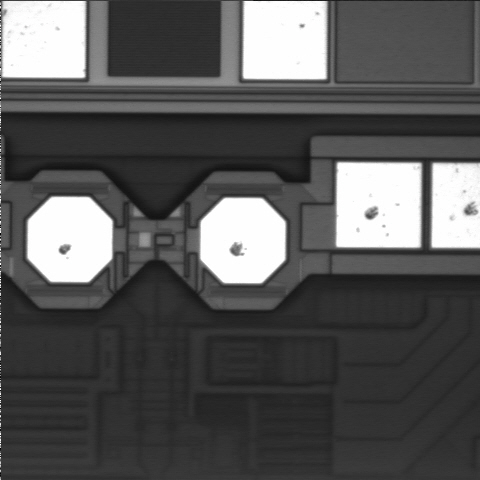pad: (200, 198, 286, 283), (336, 163, 421, 247), (28, 197, 112, 282)
